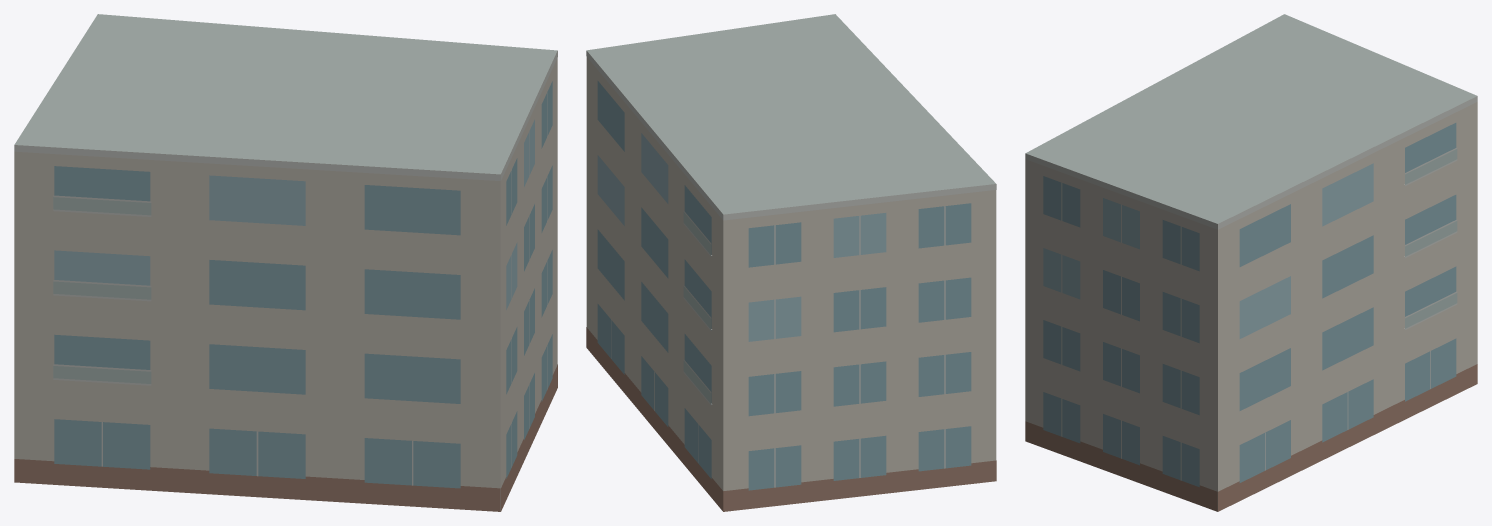
The model's file is survey-upis-33043950.glb.
3 views of the same model, side by side, from view 1: azimuth 30°, elevation 25°; view 2: azimuth 150°, elevation 25°; view 3: azimuth 270°, elevation 25° (orthographic). The views are drawn at different scales.
Parts seen in each view (by area): view 1: survey-upis-33043950.tmp; view 2: survey-upis-33043950.tmp; view 3: survey-upis-33043950.tmp.
Boxes of the visible parts, bbox=[...] form: survey-upis-33043950.tmp: bbox=[14, 14, 557, 511]; survey-upis-33043950.tmp: bbox=[586, 14, 996, 511]; survey-upis-33043950.tmp: bbox=[1025, 14, 1477, 511].
Bounding box in the file's own units: 19.09 × 12.2 × 17.38.
